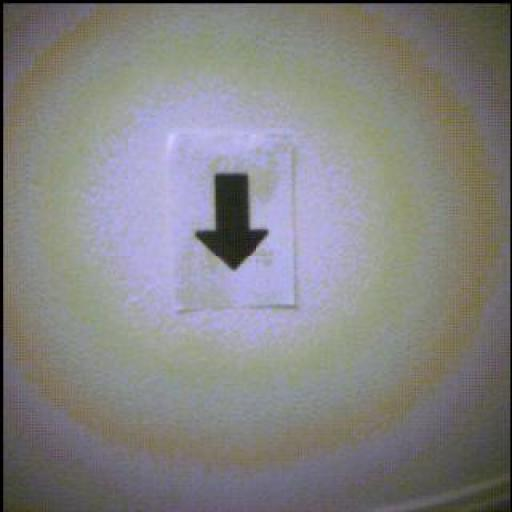arrow: (196, 176, 268, 272)
